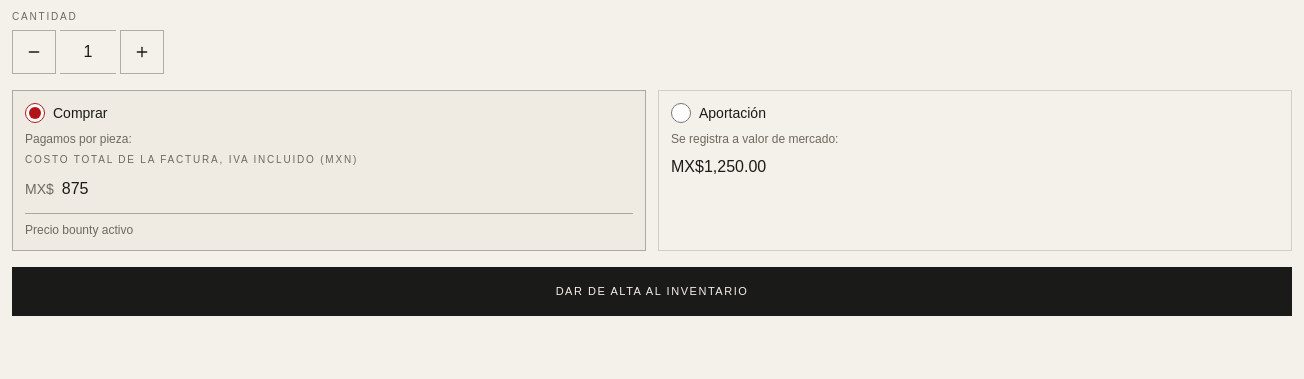
QuickAddSection (P-19, §16.5) · alta rápida simplificada › «Comprar» envía compra con acquisitionCostCents y qty del stepper; éxito con folios
Expected: the text "Precio bounty activo" is shown, [25,223,133,237]
Click the button named "Sumar uno" at (142, 52), box [120,30,164,74]
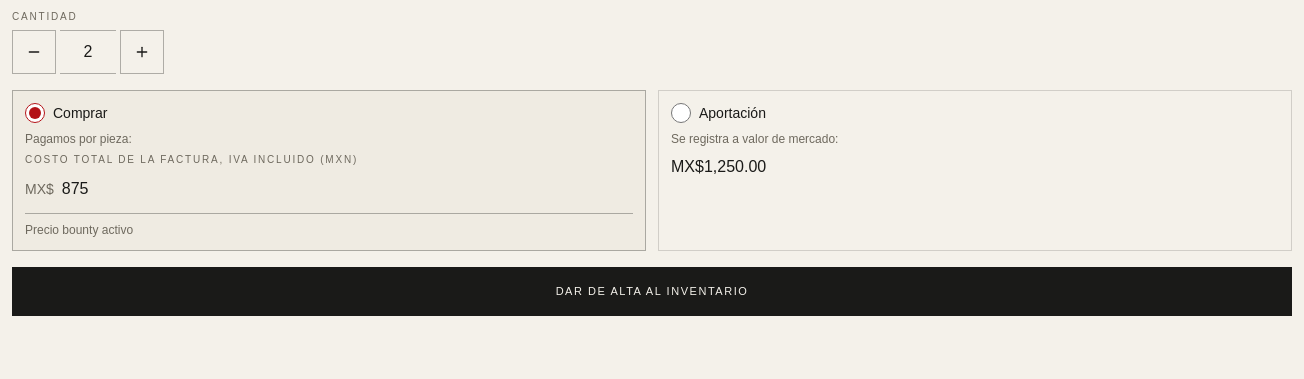
Click the button named "Sumar uno" at (142, 52), box [120,30,164,74]
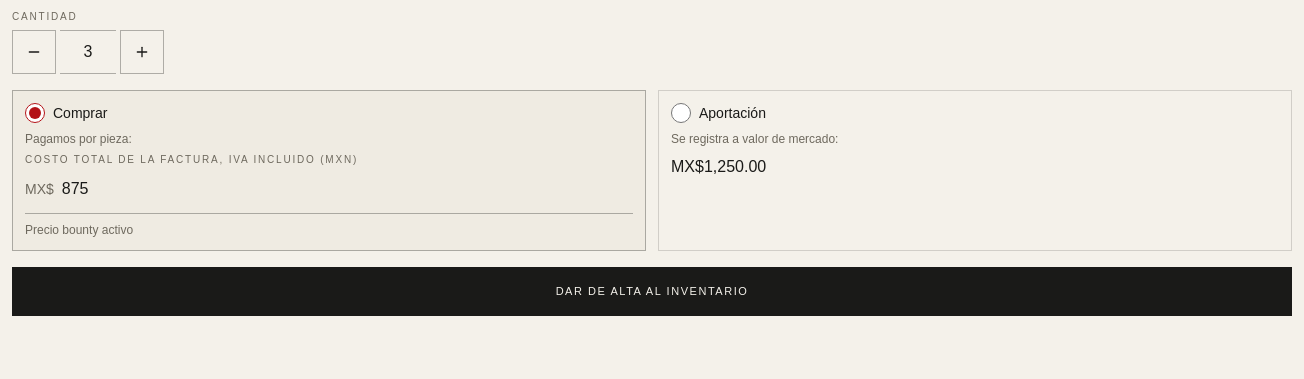
Click the button "Dar de alta al inventario" at (652, 291), box [12,267,1292,316]
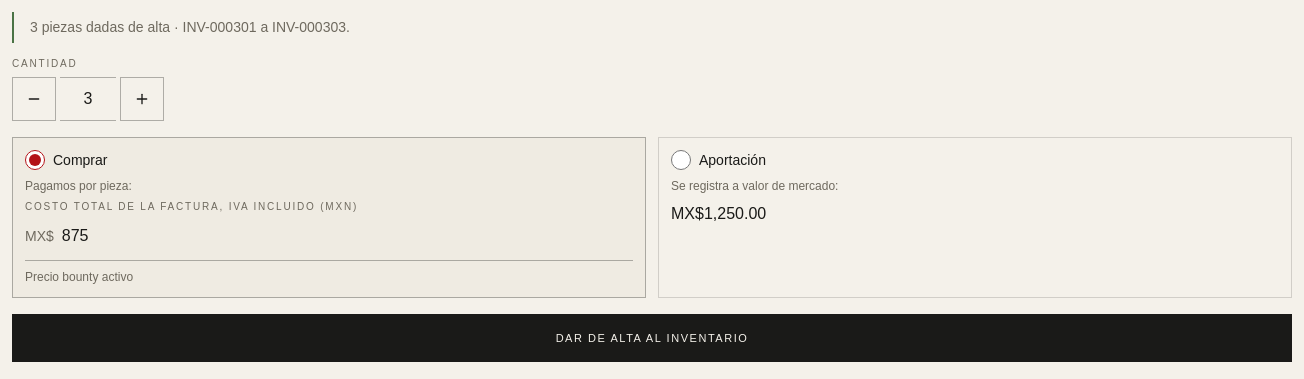
Expected: the text "3 piezas dadas de alta · INV-000301 a INV-000303." is shown, [30,19,350,35]
